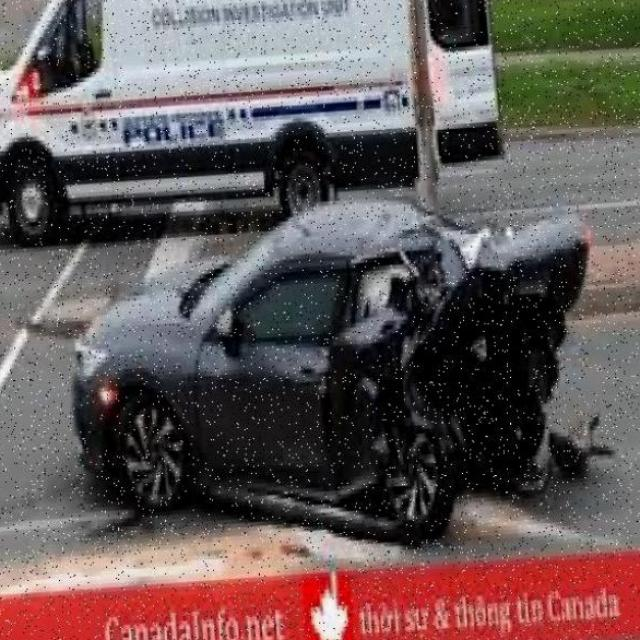accident: (275, 157, 625, 575)
